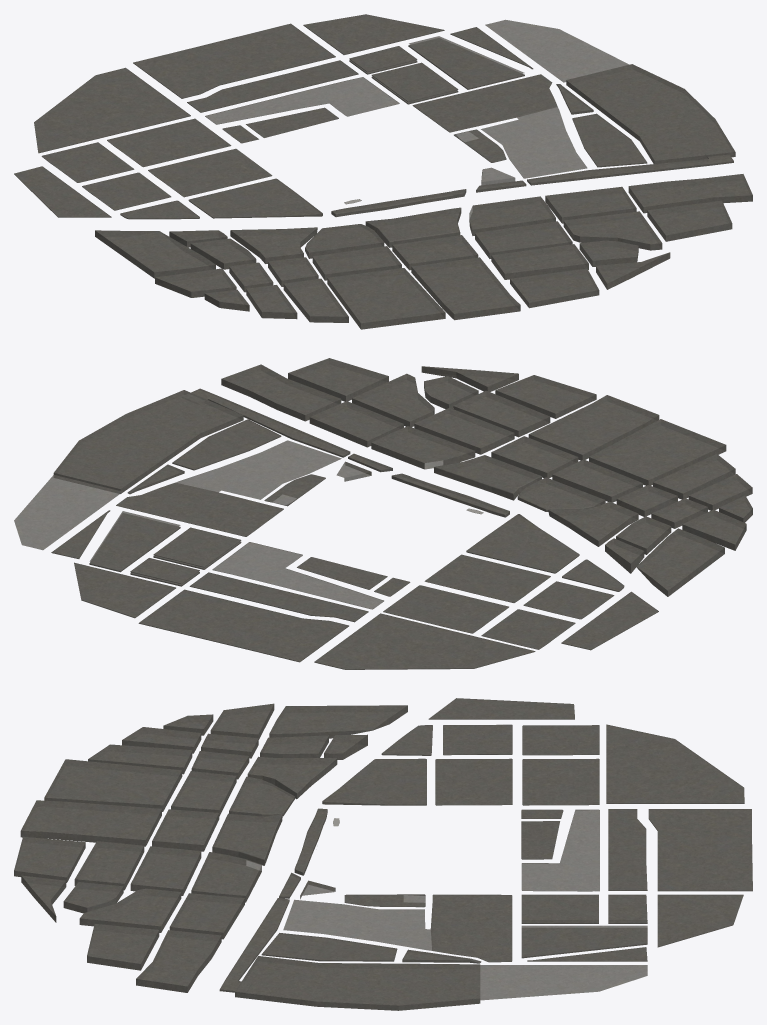
Rendered from sidewalk2.glb.
The picture shows the model from 3 angles, top to bottom: view 1: azimuth 30°, elevation 25°; view 2: azimuth 150°, elevation 25°; view 3: azimuth 270°, elevation 25°; orthographic projection. The views are drawn at different scales.
Parts seen in each view (by area): view 1: transparents sidewalk; view 2: transparents sidewalk; view 3: transparents sidewalk.
Part boxes in pixels (<box>): transparents sidewalk: <box>14,14,752,329</box>; transparents sidewalk: <box>14,358,752,669</box>; transparents sidewalk: <box>14,698,752,1010</box>.
Size of the model in its own units: 87.05 by 1.79 by 87.84.
Materials: 1 (1 with a texture image).
